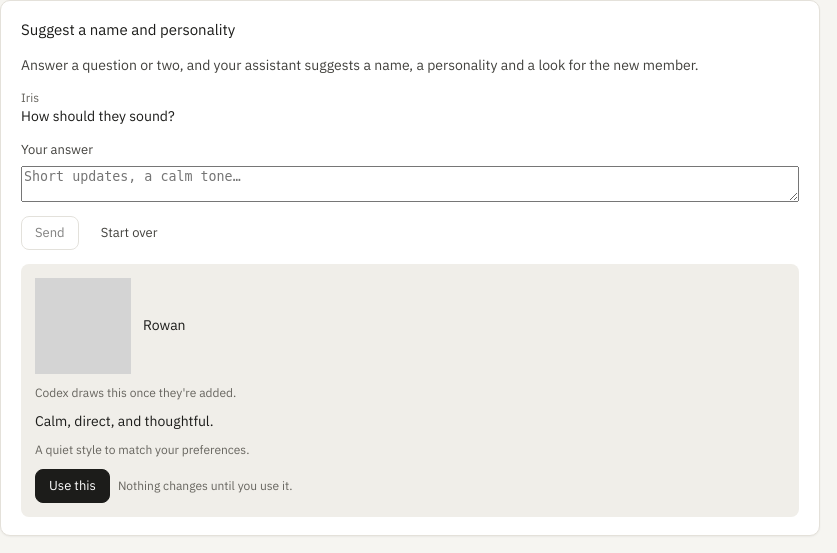
Test: starts over
Click the button "Start over". click: (129, 233)
box: left=87, top=216, right=172, bottom=250
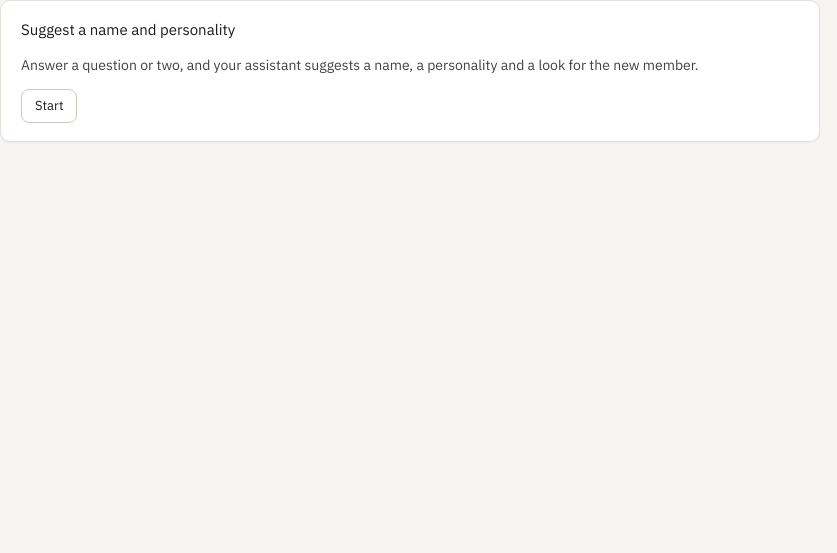
Expected: the button "Start" is shown, left=21, top=89, right=78, bottom=123
Expected: the text "How should they sound?" is gone
Expected: the button "Use this" is gone
